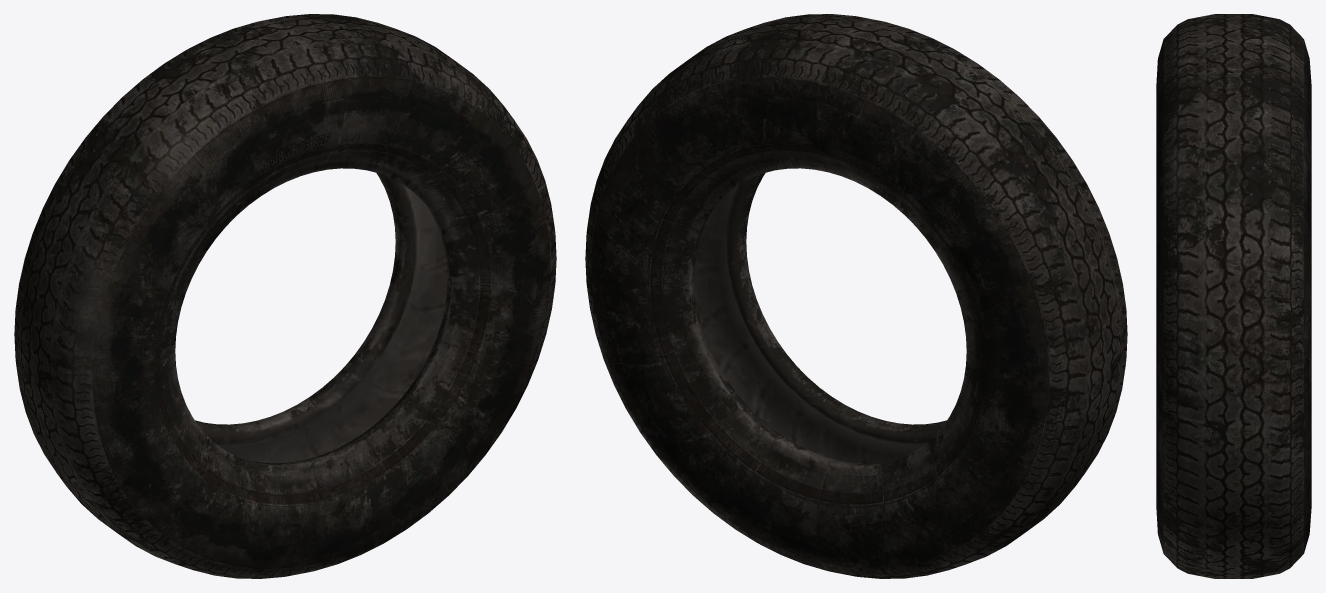
The model's file is old_tyre.glb.
3 renders of one model, left to right at view 1: azimuth 30°, elevation 25°; view 2: azimuth 150°, elevation 25°; view 3: azimuth 270°, elevation 25°, orthographic. The views are drawn at different scales.
Visible parts, largest first — view 1: old_tyre; view 2: old_tyre; view 3: old_tyre.
Part boxes in pixels (left/top/right/bottom): old_tyre: left=14, top=14, right=556, bottom=578; old_tyre: left=585, top=14, right=1127, bottom=578; old_tyre: left=1156, top=14, right=1311, bottom=578.
Size of the model in its own units: 0.6 by 0.6 by 0.165.
Materials: 1 (1 with a texture image).
